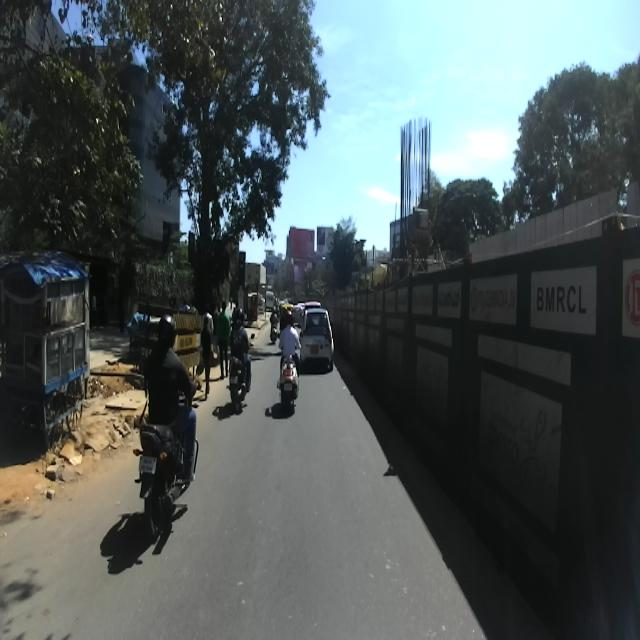barrier ahead at: (338, 228, 634, 635)
car ahead at: (0, 253, 94, 447)
motorcycle ahead at: (136, 409, 206, 548), (274, 357, 306, 414)
